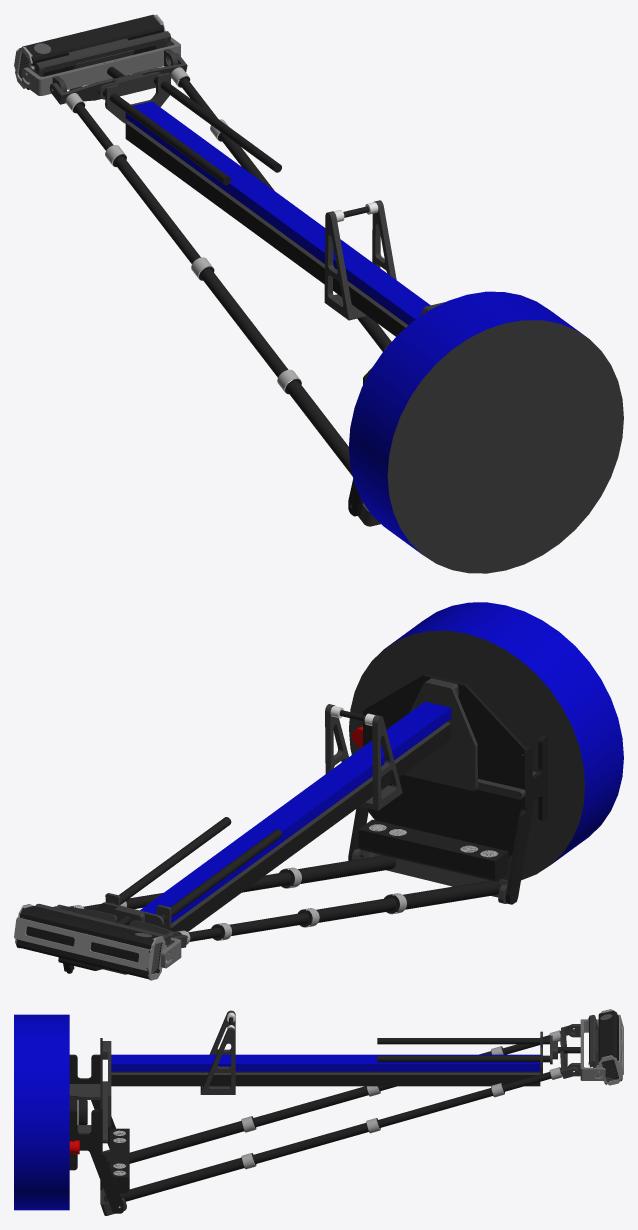
File: wpb_home_mani.dae
The picture shows the model from 3 angles, top to bottom: view 1: azimuth 30°, elevation 25°; view 2: azimuth 150°, elevation 25°; view 3: azimuth 270°, elevation 25°; orthographic projection. The views are drawn at different scales.
Visible parts, largest first — view 1: SketchUp (×9), GROUP_16, GROUP_36, GROUP_23, GROUP_54, GROUP_53, GROUP_38, GROUP_49; view 2: SketchUp (×12), GROUP_6, GROUP_16, GROUP_44, GROUP_3, GROUP_29, GROUP_7, GROUP_53, GROUP_54, GROUP_38, GROUP_23, GROUP_46; view 3: SketchUp (×12), GROUP_2, GROUP_54, GROUP_53, GROUP_16, GROUP_3, GROUP_36, GROUP_23, GROUP_38, GROUP_5, GROUP_46, GROUP_6 (+1 smaller).
Boxes of the visible parts, x1,y1,x2,y2 form: SketchUp (×9): (114,101,623,573); GROUP_16: (18,14,163,89); GROUP_36: (22,37,180,95); GROUP_23: (34,31,170,90); GROUP_54: (153,77,281,172); GROUP_53: (103,89,230,184); GROUP_38: (49,53,187,104); GROUP_49: (105,72,171,123); SketchUp (×12): (140,602,623,936); GROUP_6: (363,674,526,857); GROUP_16: (16,905,161,978); GROUP_44: (403,680,477,790); GROUP_3: (505,735,547,904); GROUP_29: (14,917,151,970); GROUP_7: (351,848,516,903); GROUP_53: (159,829,282,922); GROUP_54: (108,817,231,904); GROUP_38: (53,906,187,947); GROUP_23: (35,903,170,974); GROUP_46: (477,779,525,799); SketchUp (×12): (14,1010,551,1210); GROUP_2: (69,1109,123,1213); GROUP_54: (377,1055,549,1062); GROUP_53: (377,1038,549,1044); GROUP_16: (598,1010,622,1084); GROUP_3: (69,1054,115,1148); GROUP_36: (580,1019,605,1080); GROUP_23: (589,1015,598,1077); GROUP_38: (560,1025,578,1078); GROUP_5: (69,1084,100,1099); GROUP_46: (102,1081,107,1143); GROUP_6: (100,1038,102,1190).
Size of the model in its own units: 17.72 by 55.18 by 18.12.
